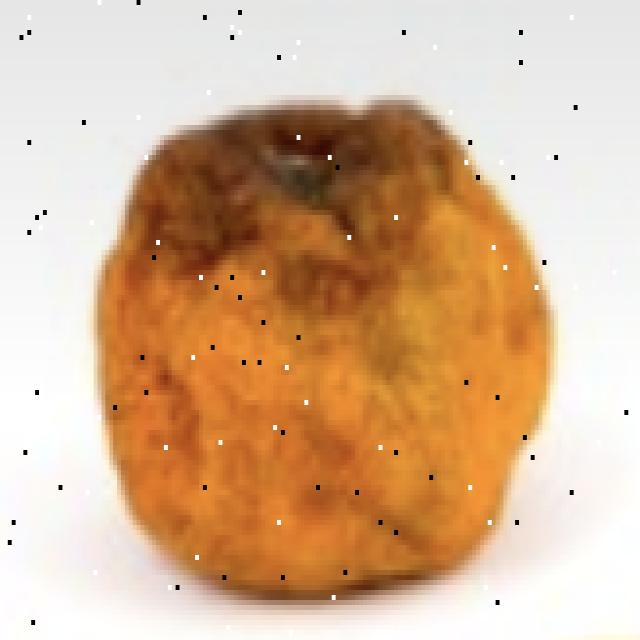sangat_busuk: (82, 82, 569, 607)
